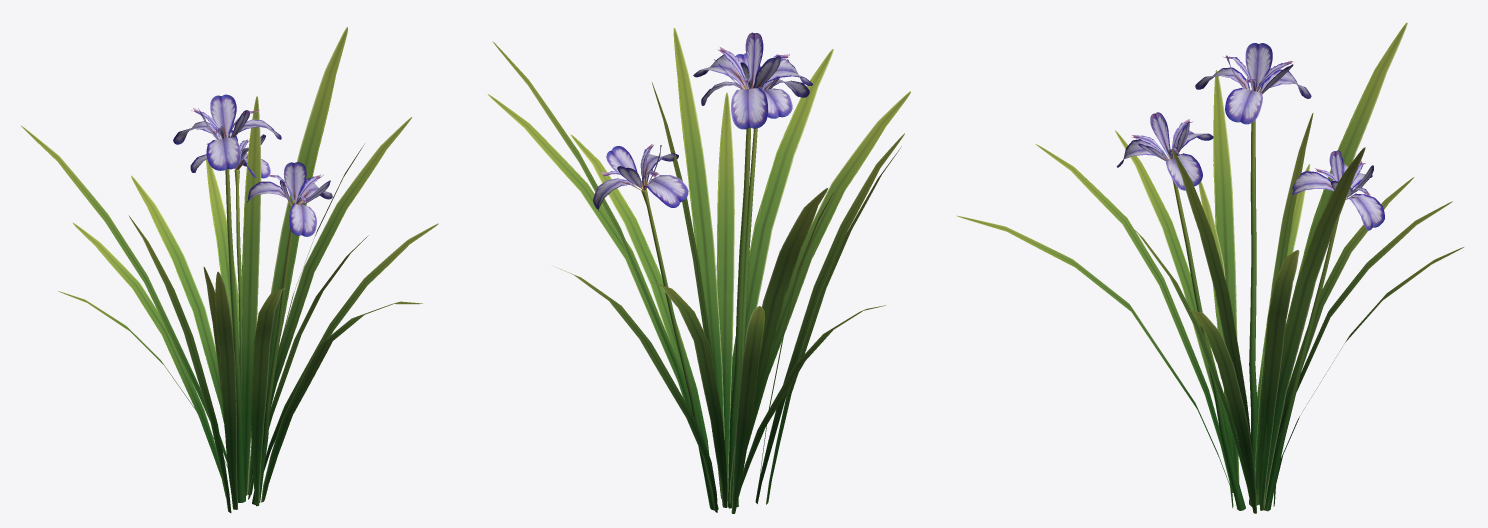
The model's file is Pikulka.fbx.
3 views of the same model, side by side, from view 1: azimuth 30°, elevation 25°; view 2: azimuth 150°, elevation 25°; view 3: azimuth 270°, elevation 25° (orthographic). The views are drawn at different scales.
Parts seen in each view (by area): view 1: Pikulka_LOD00; view 2: Pikulka_LOD00; view 3: Pikulka_LOD00.
Part boxes in pixels (x1,y1,x2,y2): Pikulka_LOD00: [21, 27, 438, 512]; Pikulka_LOD00: [487, 28, 910, 513]; Pikulka_LOD00: [956, 22, 1463, 513].
Size of what is drawn, in the model's own units: 1.18 by 1.26 by 1.33.
